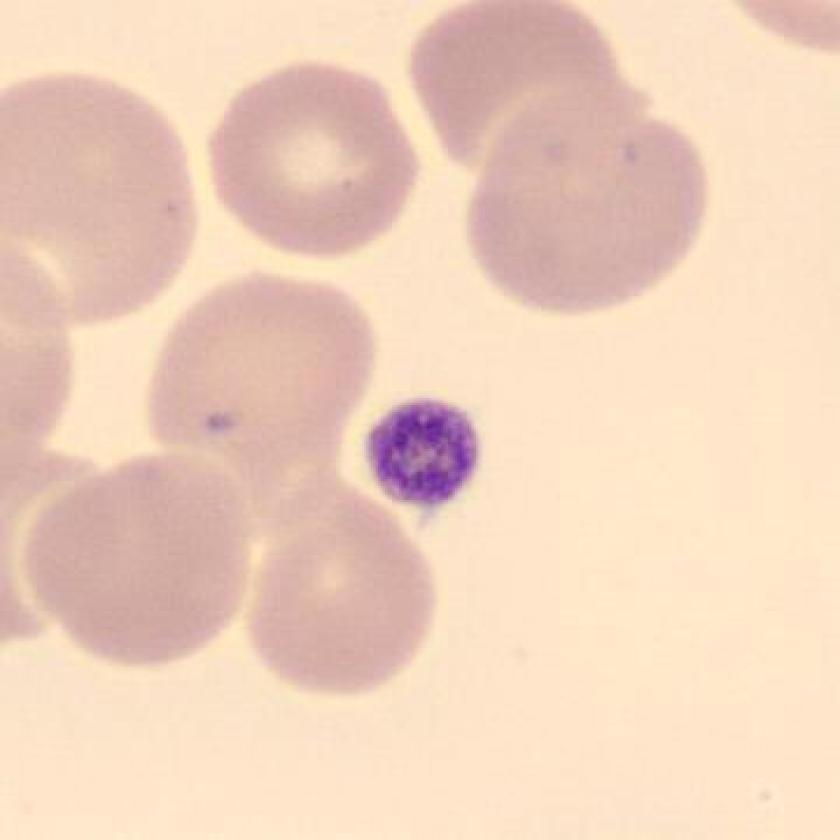platelets: (351, 383, 493, 519)
